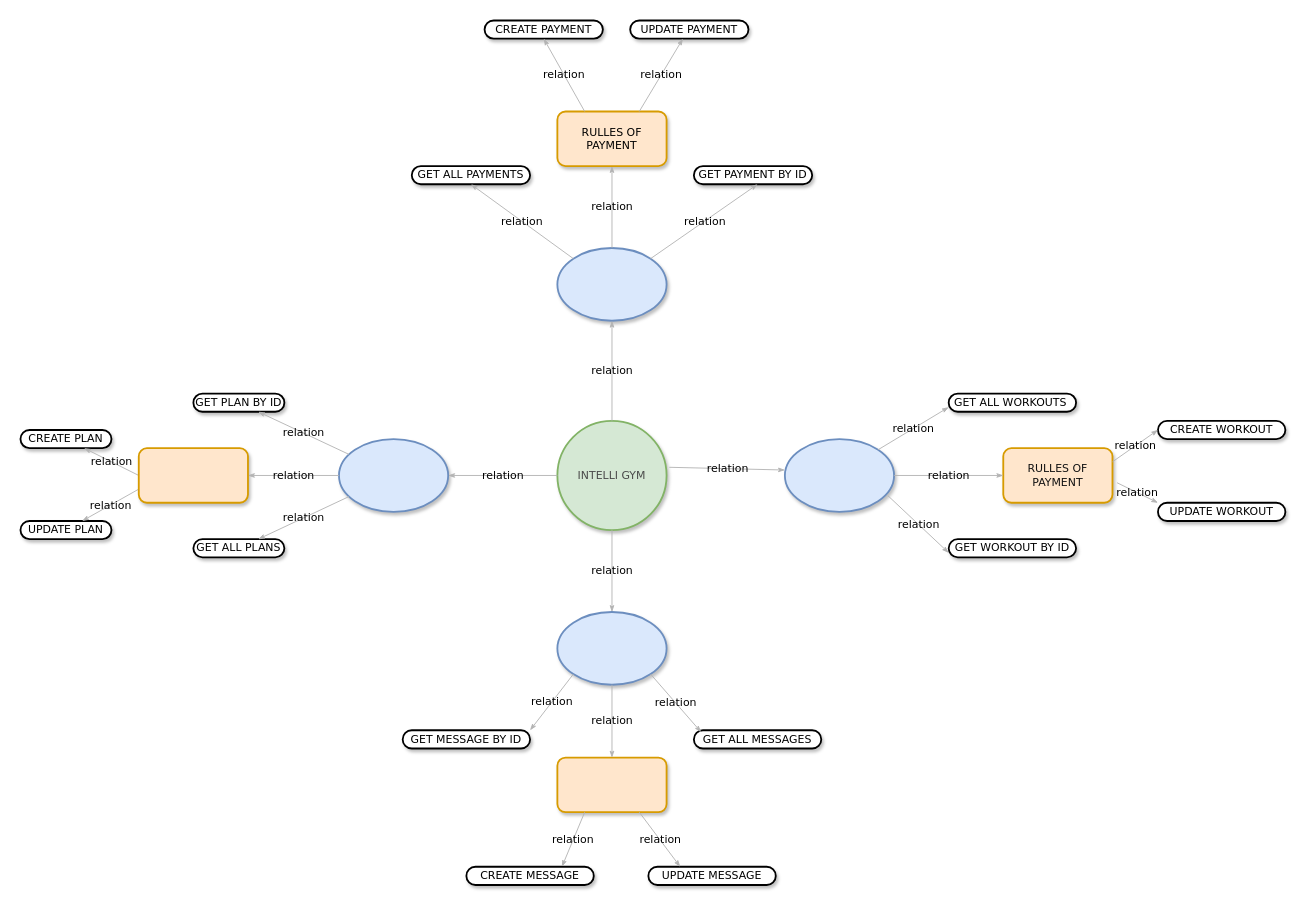
The diagram is 1307 pixels wide and 907 high, and some of its shapes have lost their labels. Each missing label, with the centre of its shape:
"GYM SOLVER API" belongs at point (394, 476).
"MESSAGING SOLVER API" belongs at point (612, 649).
"PAYMENT SOLVER API" belongs at point (612, 285).
"RULLES OF MESSAGES" belongs at point (612, 786).
"RULLES OF PLAN" belongs at point (194, 476).
"WORKOUT SOLVER API" belongs at point (840, 476).
